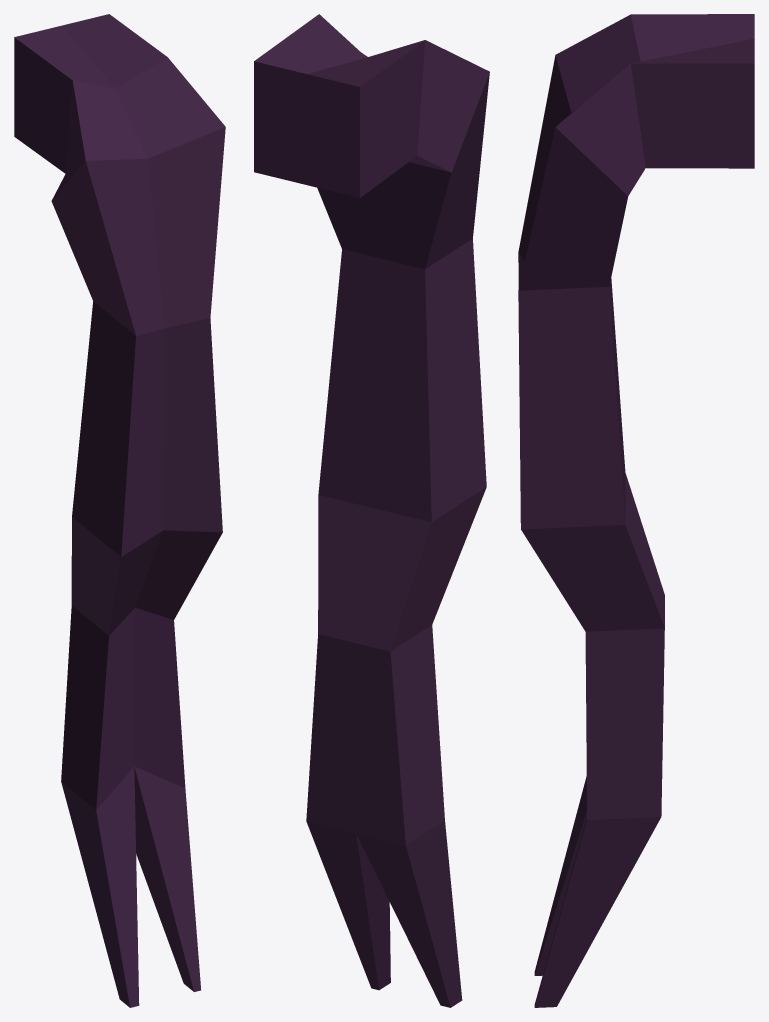
File: PickUp3.fbx
The picture shows the model from 3 angles, left to right: view 1: azimuth 30°, elevation 25°; view 2: azimuth 150°, elevation 25°; view 3: azimuth 270°, elevation 25°; orthographic projection. The views are drawn at different scales.
Parts seen in each view (by area): view 1: Cube.001; view 2: Cube.001; view 3: Cube.001.
Boxes of the visible parts, bbox=[...] form: Cube.001: bbox=[14, 14, 225, 1007]; Cube.001: bbox=[254, 14, 489, 1007]; Cube.001: bbox=[518, 14, 754, 1007].
Size of the model in its own units: 26.48 by 162 by 36.55.
